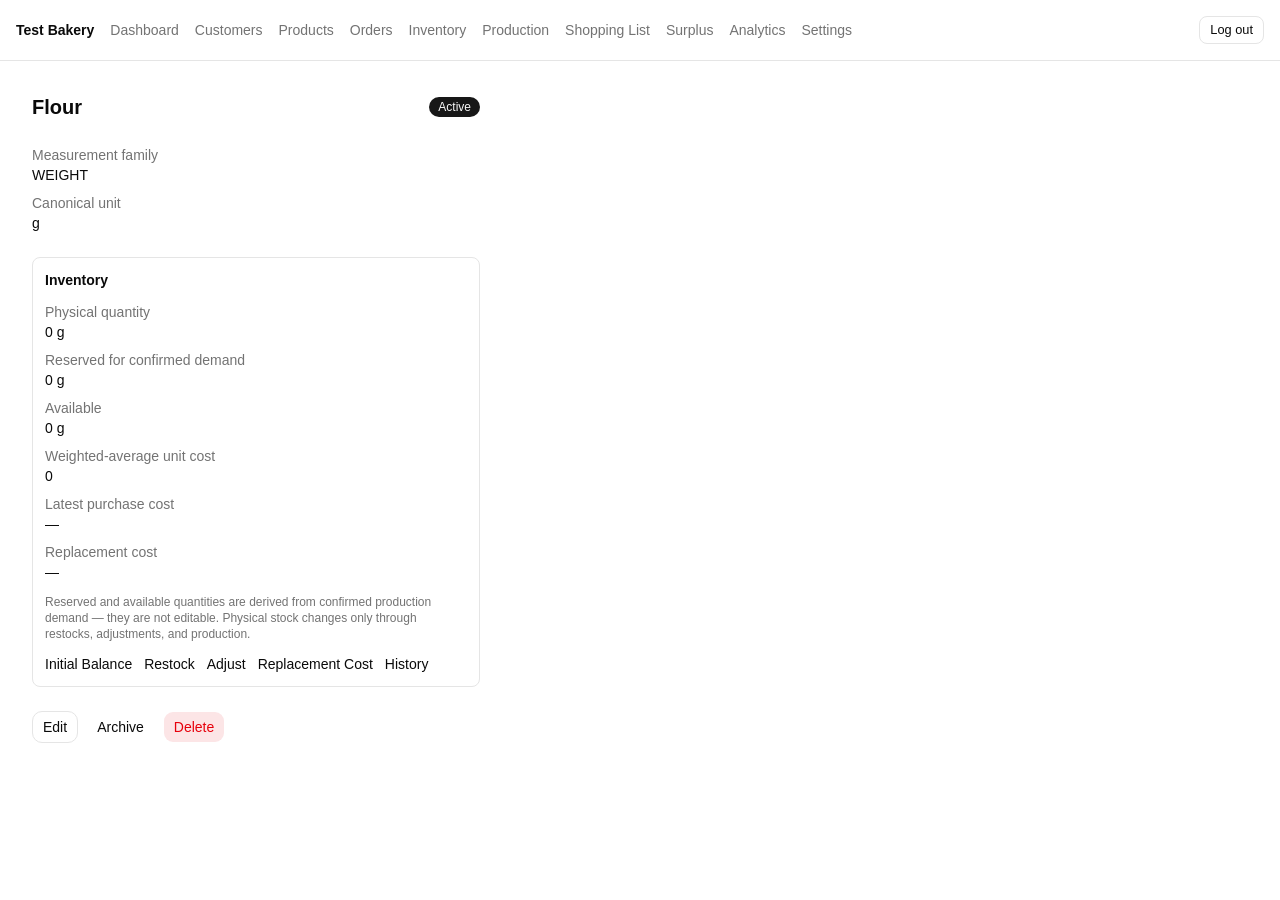
Test: Ingredient detail — lifecycle actions › archives an active ingredient
Expected: the heading "Flour" is shown, left=32, top=93, right=82, bottom=121
Click the button "Archive". click: x=120, y=727
box: left=86, top=711, right=155, bottom=743
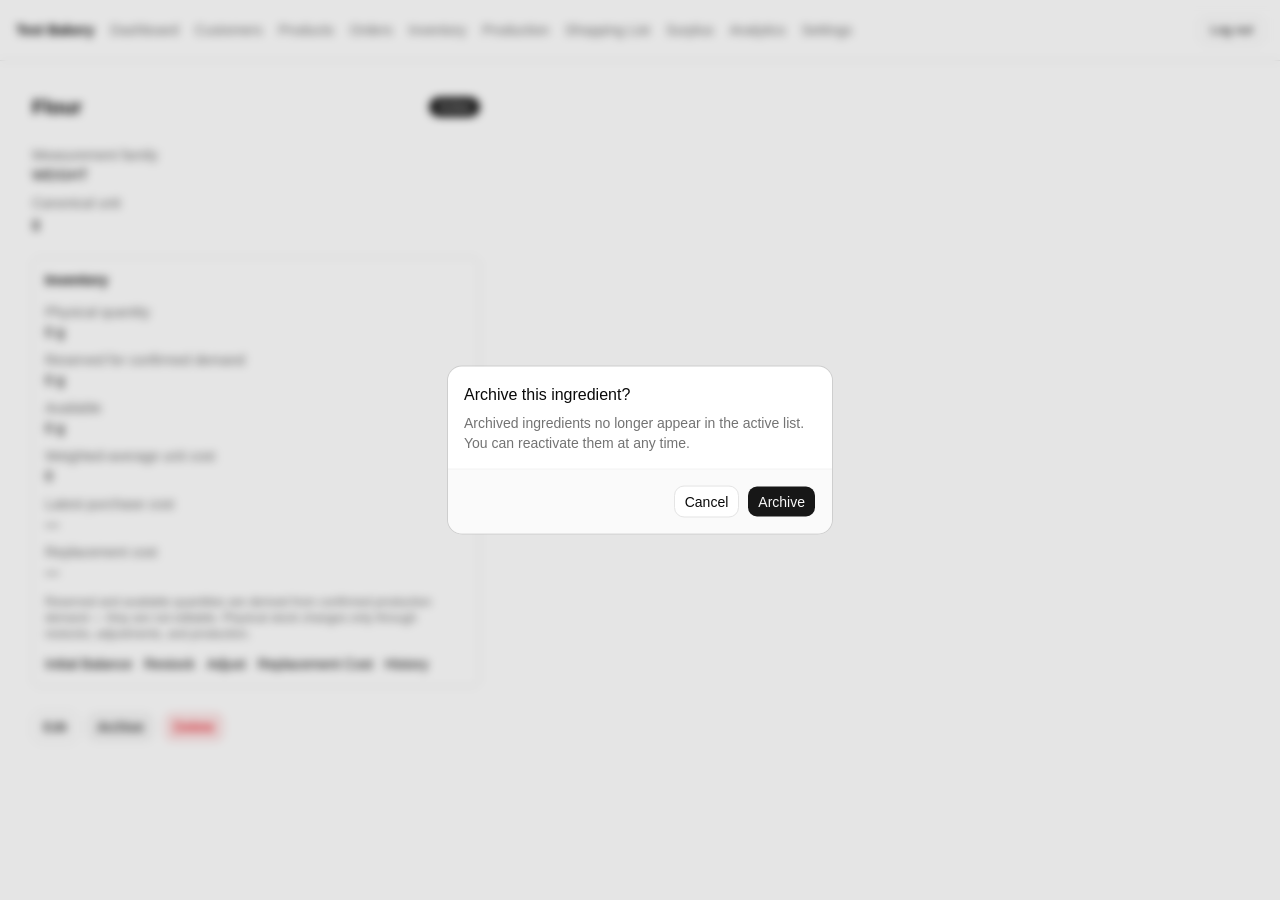
Click the button "Archive". click: x=782, y=502
box: left=747, top=486, right=816, bottom=518
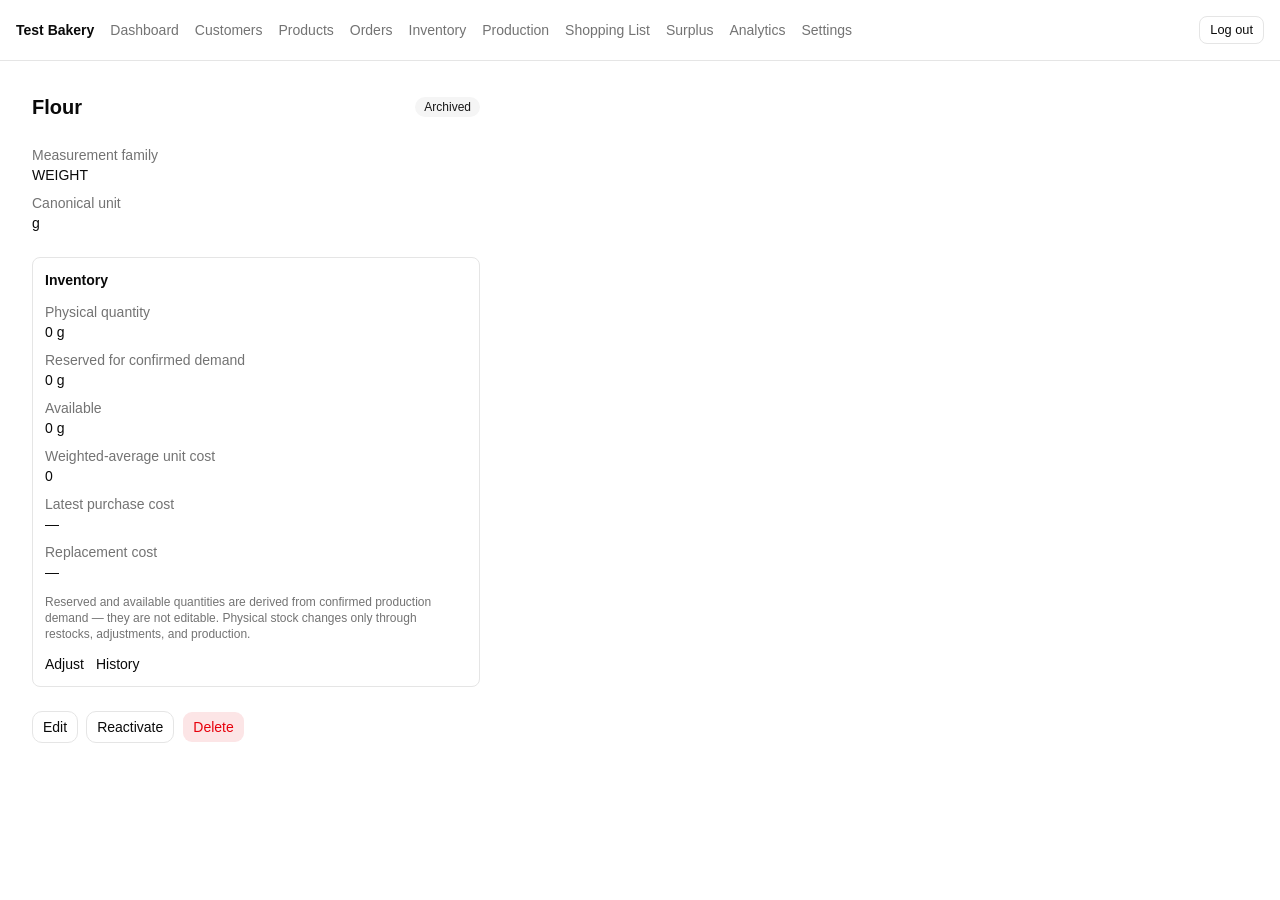
Expected: the text "Archived" is shown, left=415, top=97, right=480, bottom=117
